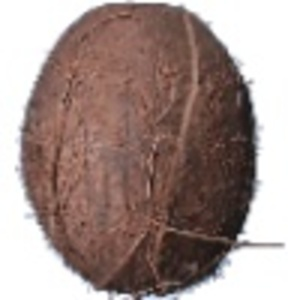coco: (17, 2, 271, 300)
